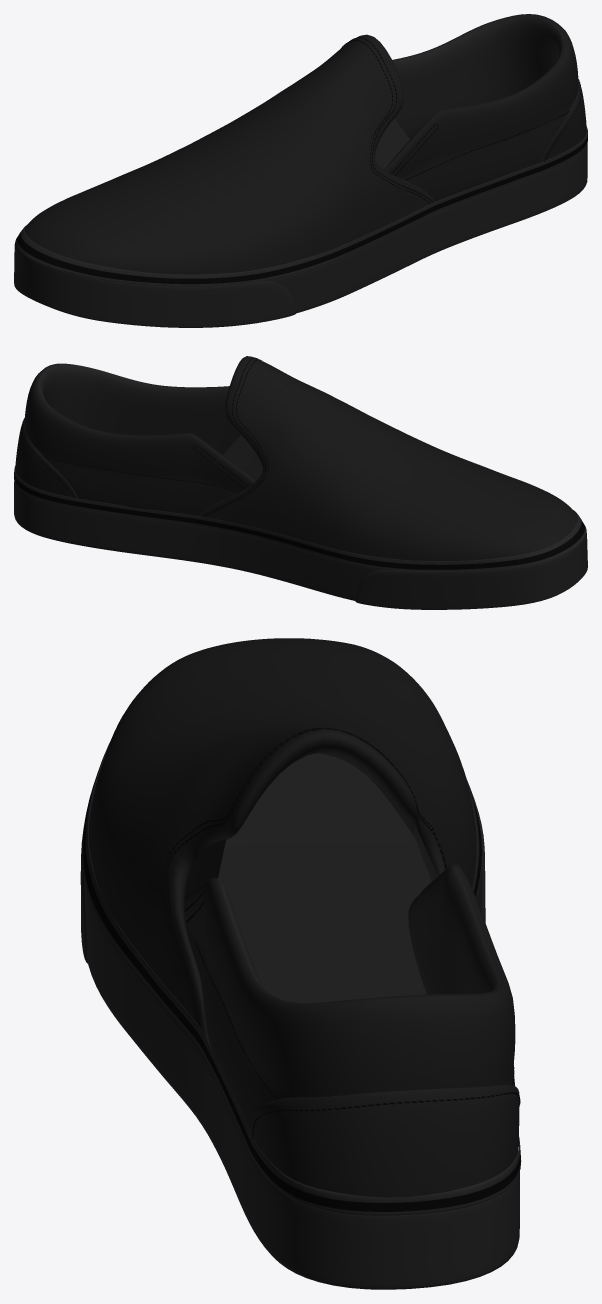
The model's file is shoe.glb.
3 views of the same model, one above another, from view 1: azimuth 30°, elevation 25°; view 2: azimuth 150°, elevation 25°; view 3: azimuth 270°, elevation 25° (orthographic). The views are drawn at different scales.
Parts seen in each view (by area): view 1: Rest; view 2: Rest; view 3: Rest.
Boxes of the visible parts, x1=… form: Rest: x1=14, y1=14, x2=587, y2=327; Rest: x1=14, y1=356, x2=587, y2=609; Rest: x1=80, y1=638, x2=521, y2=1289.
Size of the model in its own units: 4.06 by 1.33 by 1.46.
2 materials, 2 textured.
